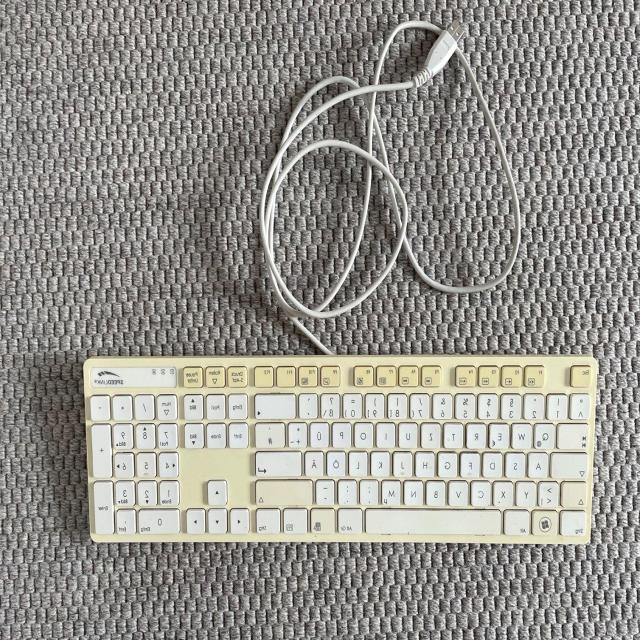0: (345, 390, 365, 417)
1: (548, 391, 570, 419)
2: (525, 391, 546, 418)
3: (502, 391, 523, 418)
4: (479, 391, 500, 417)
5: (457, 390, 478, 418)
6: (434, 390, 455, 417)
7: (411, 390, 432, 418)
8: (389, 390, 409, 418)
9: (367, 390, 387, 418)
a: (529, 449, 550, 476)
accent: (300, 390, 320, 416)
ae: (306, 448, 326, 475)
alt-left: (505, 507, 531, 534)
altgr-right: (339, 506, 365, 534)
b: (427, 477, 447, 504)
c: (472, 478, 493, 505)
caret: (572, 391, 593, 417)
comma: (361, 476, 381, 504)
d: (484, 449, 504, 476)
del: (257, 391, 299, 417)
e: (490, 420, 511, 448)
enter: (256, 448, 304, 475)
f: (462, 449, 482, 475)
g: (439, 449, 460, 475)
h: (417, 449, 437, 476)
hash: (256, 420, 287, 447)
i: (378, 419, 398, 445)
j: (395, 448, 415, 475)
k: (372, 448, 392, 475)
keyboard: (85, 349, 601, 547)
l: (350, 448, 370, 475)
less: (540, 479, 561, 507)
m: (383, 477, 404, 505)
minus: (317, 477, 337, 503)
n: (405, 477, 425, 504)
o: (356, 419, 376, 446)
oe: (328, 448, 348, 476)
p: (334, 419, 354, 446)
plus: (290, 419, 310, 446)
point: (339, 477, 359, 503)
q: (535, 420, 557, 448)
r: (467, 420, 488, 447)
s: (506, 449, 527, 477)
shift-left: (563, 479, 589, 506)
shift-lock: (551, 449, 589, 477)
shift-right: (257, 476, 315, 504)
space: (366, 506, 504, 534)
ss: (323, 391, 343, 417)
strg-left: (559, 507, 589, 538)
strg-right: (257, 507, 283, 533)
t: (445, 420, 465, 447)
tab: (559, 420, 591, 448)
u: (400, 419, 420, 447)
ue: (312, 419, 332, 446)
v: (450, 477, 470, 504)
w: (513, 420, 534, 448)
x: (494, 479, 515, 506)
y: (517, 479, 537, 505)
z: (423, 420, 443, 448)
